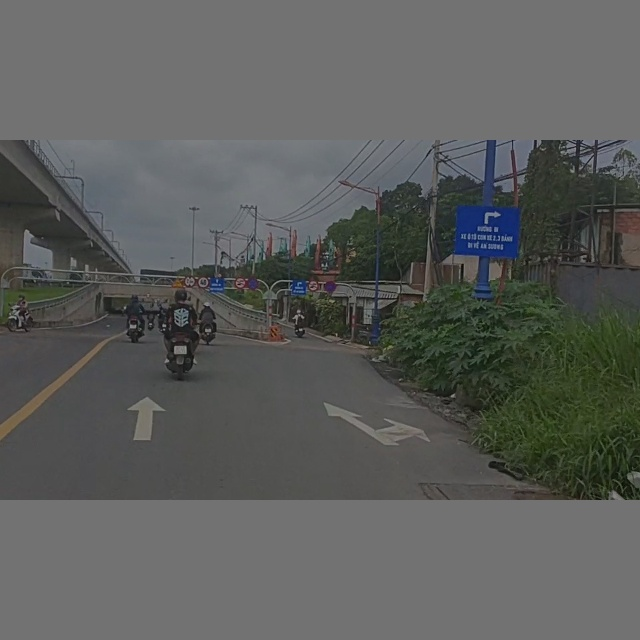P.107: (234, 277, 246, 289), (308, 280, 320, 291)
P.117*: (184, 276, 196, 287)
P.127*40: (197, 277, 209, 288)
P.130: (247, 278, 259, 291), (325, 281, 337, 293)
